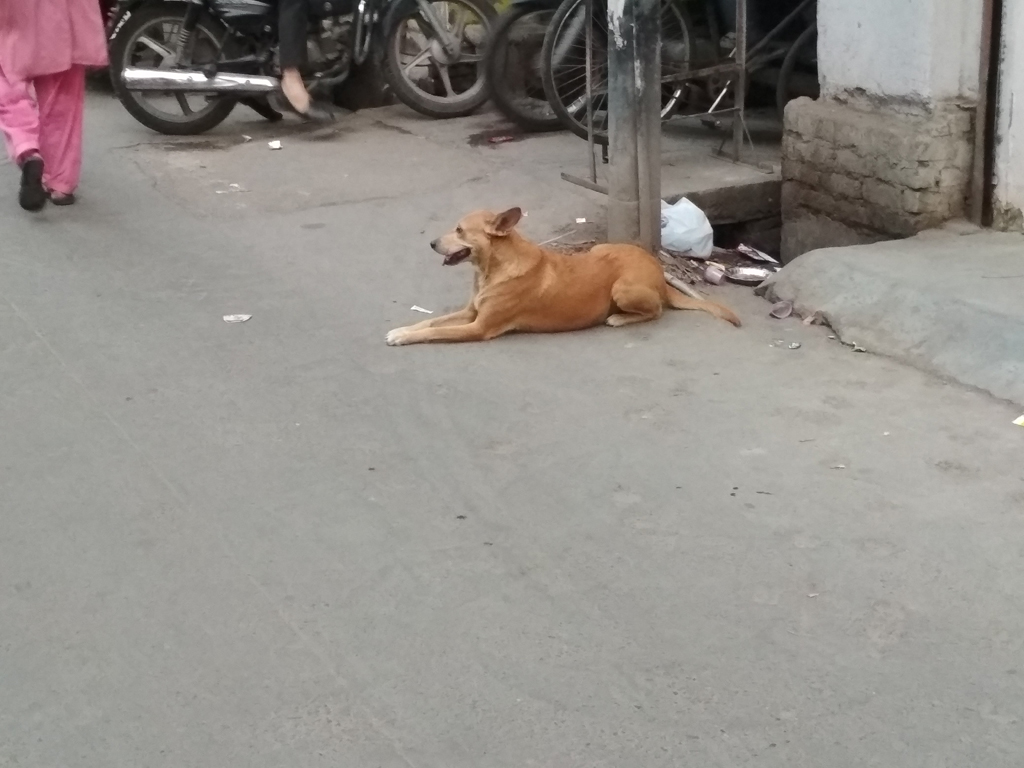dog: (386, 207, 741, 344)
